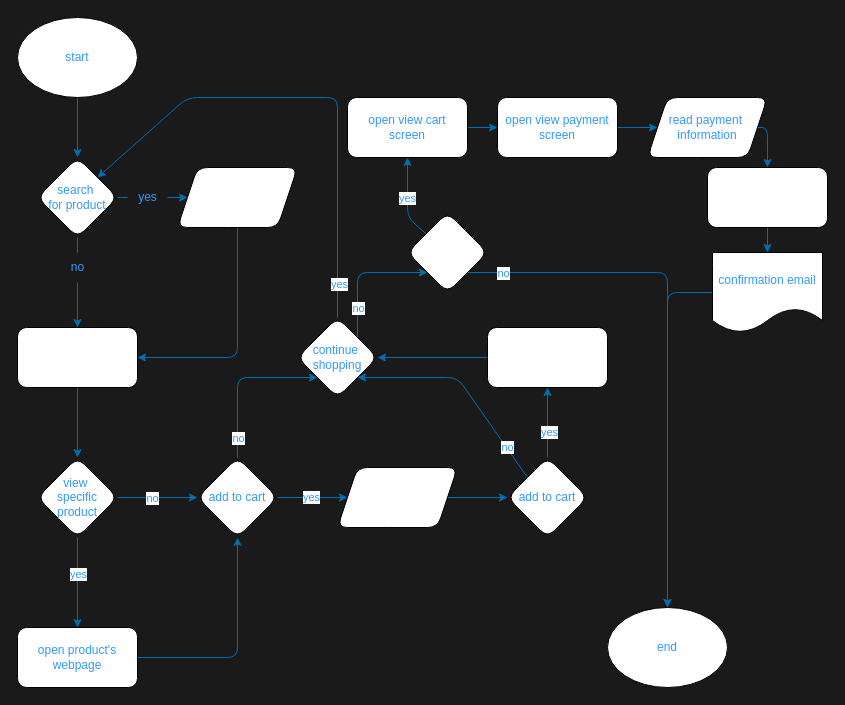
This 845x705 diagram has some shape labels left out. The shapes that lost their labels are listed below. From the top down, each one's box as (x1, y1, x2, y2) in pixels, then its label:
(176, 166, 298, 228): read user input
(706, 166, 828, 228): open confirmation screen
(406, 212, 488, 292): checkout
(16, 326, 138, 388): user looks over product
(486, 326, 608, 388): product added to cart
(336, 466, 458, 528): added to cart confirmation
